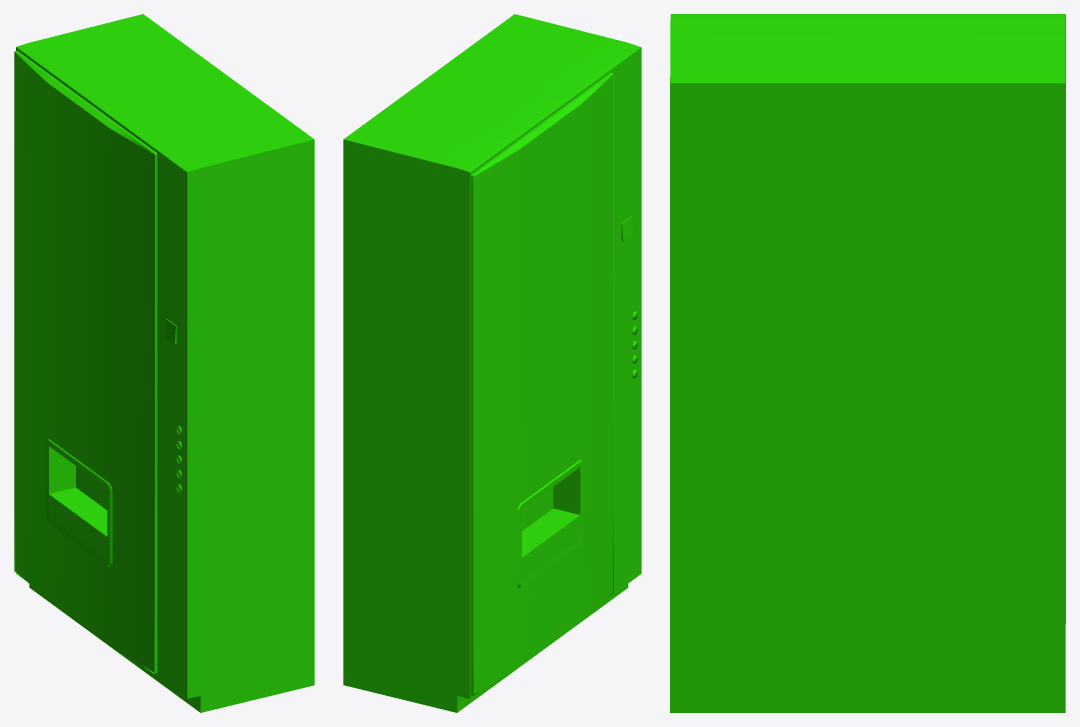
Rendered from Vending_Machine_Lod0.fbx.
3 views of the same model, side by side, from view 1: azimuth 30°, elevation 25°; view 2: azimuth 150°, elevation 25°; view 3: azimuth 270°, elevation 25° (orthographic). The views are drawn at different scales.
Parts seen in each view (by area): view 1: Vending_Machine_Lod0; view 2: Vending_Machine_Lod0; view 3: Vending_Machine_Lod0.
Part boxes in pixels (box(x1,y1,x2,y2)): Vending_Machine_Lod0: box(14, 14, 314, 712); Vending_Machine_Lod0: box(343, 14, 641, 712); Vending_Machine_Lod0: box(670, 14, 1065, 712).
Size of the model in its own units: 50.17 by 191 by 109.
